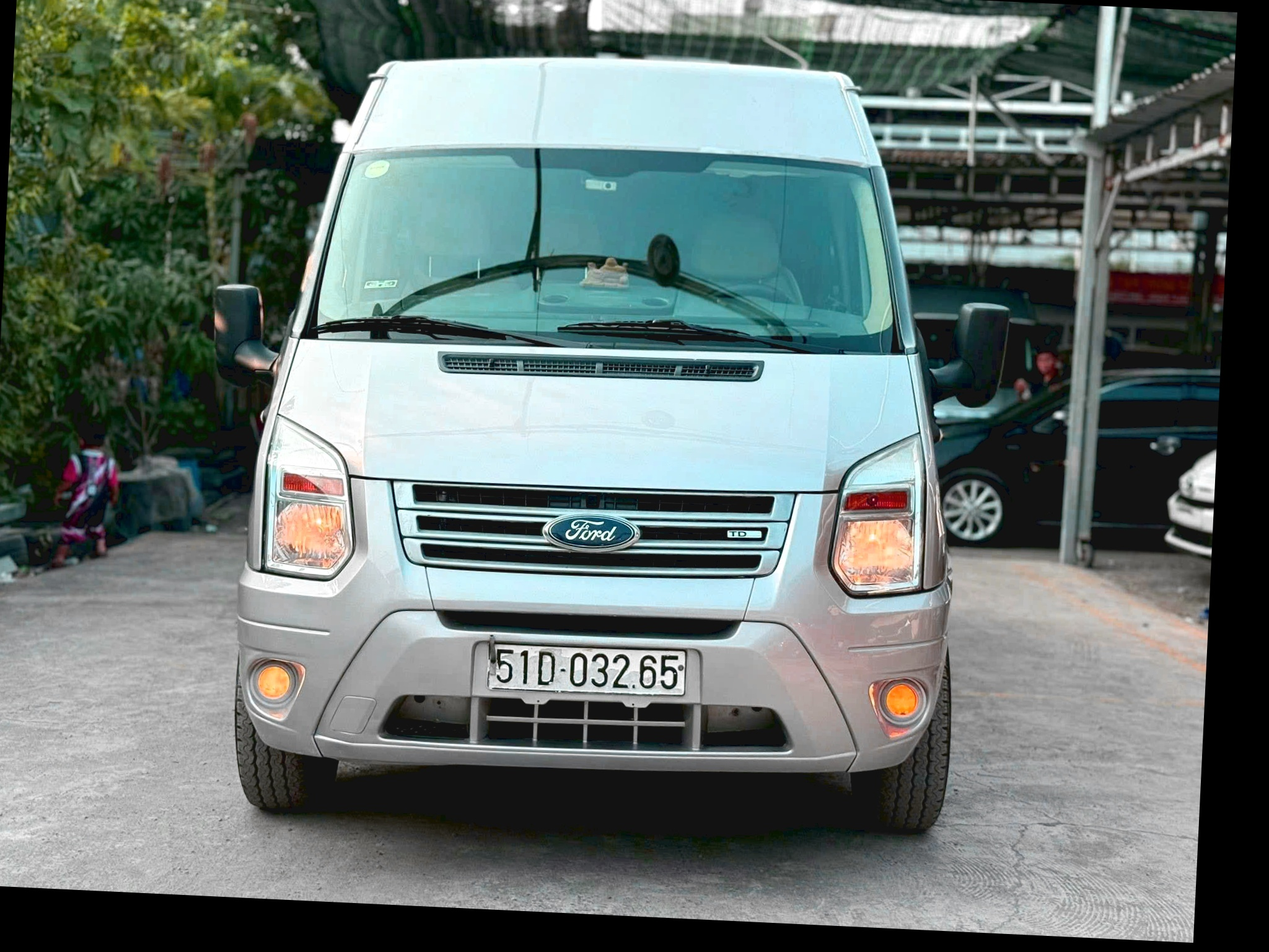Bien-so: (546, 702, 747, 745)
